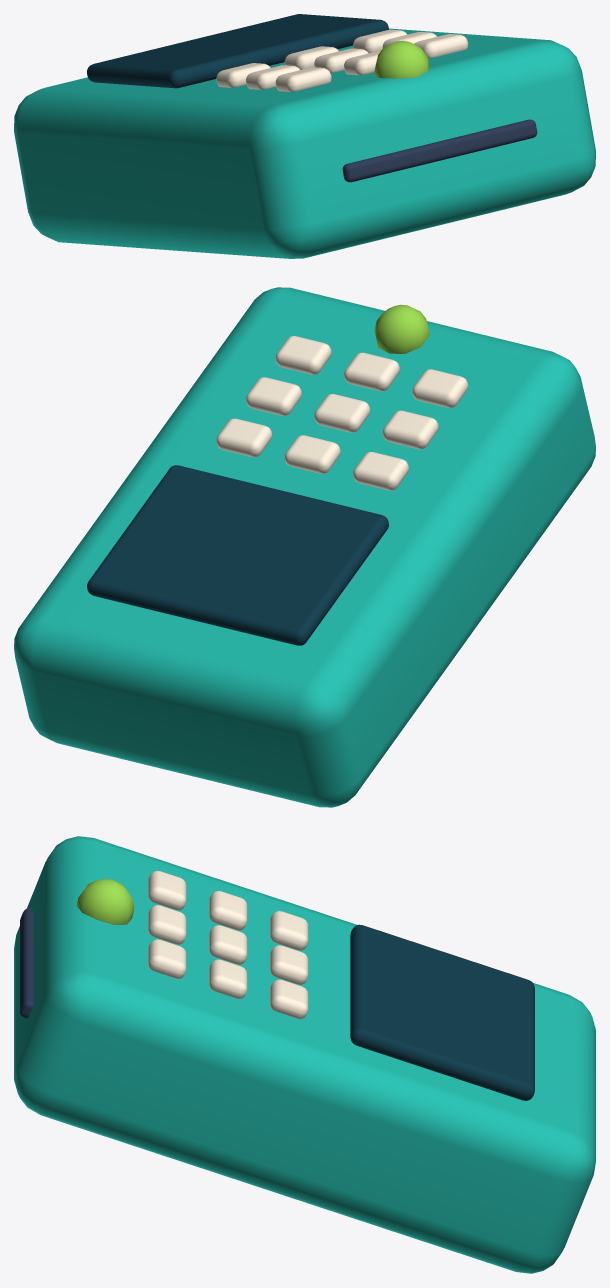
The model's file is CounterReader.fbx.
3 views of the same model, one above another, from view 1: azimuth 30°, elevation 25°; view 2: azimuth 150°, elevation 25°; view 3: azimuth 270°, elevation 25° (orthographic). The views are drawn at different scales.
Parts seen in each view (by area): view 1: CounterReader mesh; view 2: CounterReader mesh; view 3: CounterReader mesh.
Part boxes in pixels (left/top/right/bottom): CounterReader mesh: left=14, top=14, right=595, bottom=258; CounterReader mesh: left=14, top=287, right=595, bottom=807; CounterReader mesh: left=14, top=836, right=595, bottom=1273.
Bounding box in the file's own units: 0.12 × 0.11 × 0.1795.
